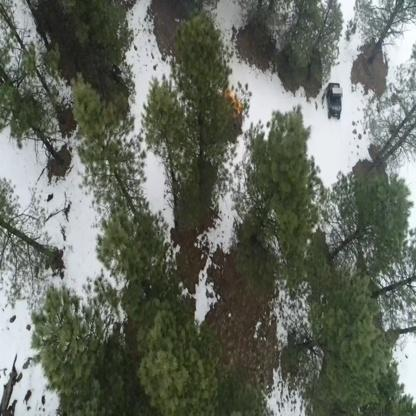Fire: (233, 94, 243, 113)
